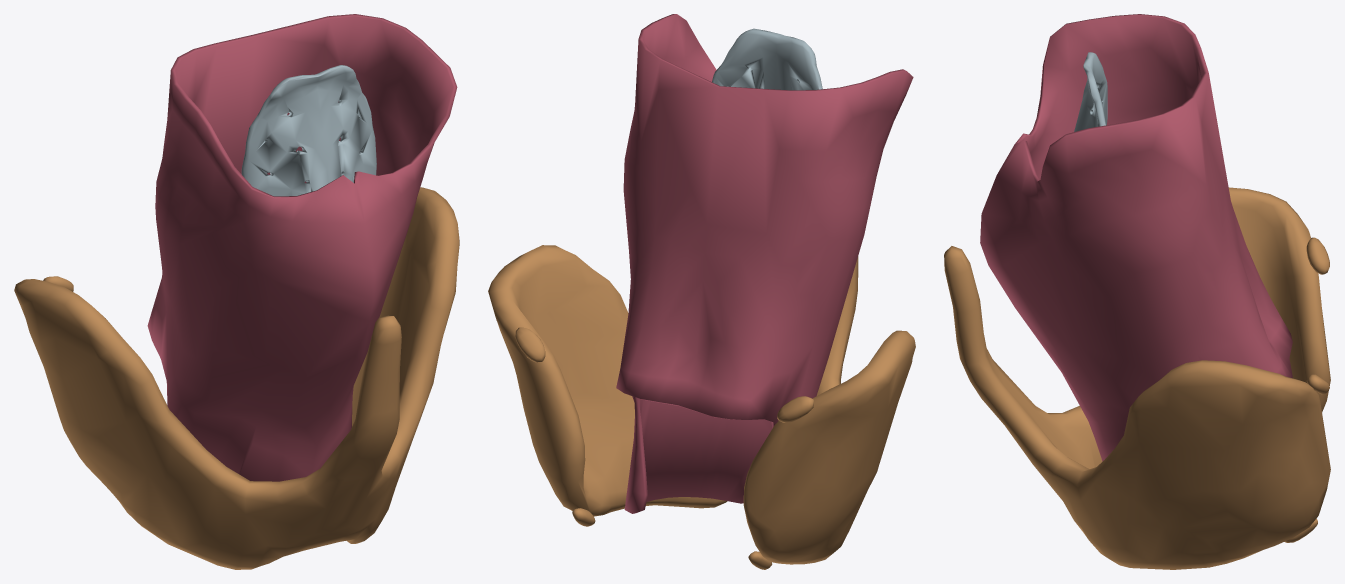
Rendered from organs-neck.glb.
3 renders of one model, left to right at view 1: azimuth 30°, elevation 25°; view 2: azimuth 150°, elevation 25°; view 3: azimuth 270°, elevation 25°, orthographic. The views are drawn at different scales.
Visible parts, largest first — view 1: organ-laryngopharynx, organ-thyroid-gland, organ-epiglottis; view 2: organ-laryngopharynx, organ-thyroid-gland, organ-epiglottis, organ-superior-parathyroid-gland-l, organ-superior-parathyroid-gland-r; view 3: organ-laryngopharynx, organ-thyroid-gland, organ-epiglottis, organ-superior-parathyroid-gland-r.
Boxes of the visible parts, x1=… form: organ-laryngopharynx: x1=147, y1=14, x2=457, y2=481; organ-thyroid-gland: x1=14, y1=187, x2=459, y2=569; organ-epiglottis: x1=241, y1=65, x2=376, y2=196; organ-laryngopharynx: x1=616, y1=14, x2=913, y2=513; organ-thyroid-gland: x1=488, y1=245, x2=915, y2=564; organ-epiglottis: x1=712, y1=28, x2=822, y2=90; organ-superior-parathyroid-gland-l: x1=515, y1=327, x2=545, y2=362; organ-superior-parathyroid-gland-r: x1=777, y1=396, x2=813, y2=422; organ-laryngopharynx: x1=980, y1=14, x2=1292, y2=461; organ-thyroid-gland: x1=944, y1=187, x2=1330, y2=569; organ-epiglottis: x1=1074, y1=52, x2=1107, y2=131; organ-superior-parathyroid-gland-r: x1=1306, y1=237, x2=1329, y2=274.
Size of the model in its own units: 0.0486 by 0.0558 by 0.0416.
